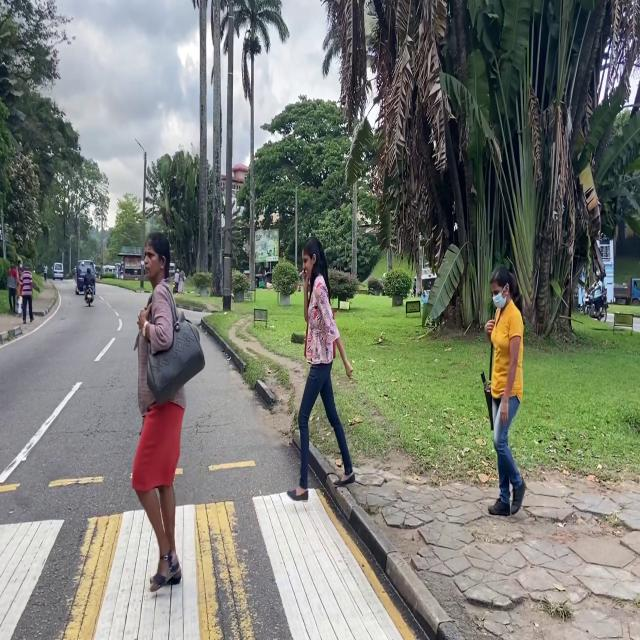bus: (578, 238, 614, 305)
motorcycle: (585, 291, 608, 322), (85, 285, 93, 306), (172, 283, 178, 295)
person: (132, 232, 204, 593), (289, 237, 354, 501), (485, 265, 525, 516), (20, 264, 33, 324), (7, 261, 18, 313), (590, 270, 603, 299), (83, 268, 94, 295), (17, 257, 22, 315), (178, 270, 185, 293), (42, 265, 47, 280), (174, 269, 179, 284)
truck: (614, 278, 640, 304)
van: (75, 260, 96, 295), (53, 263, 63, 280)
